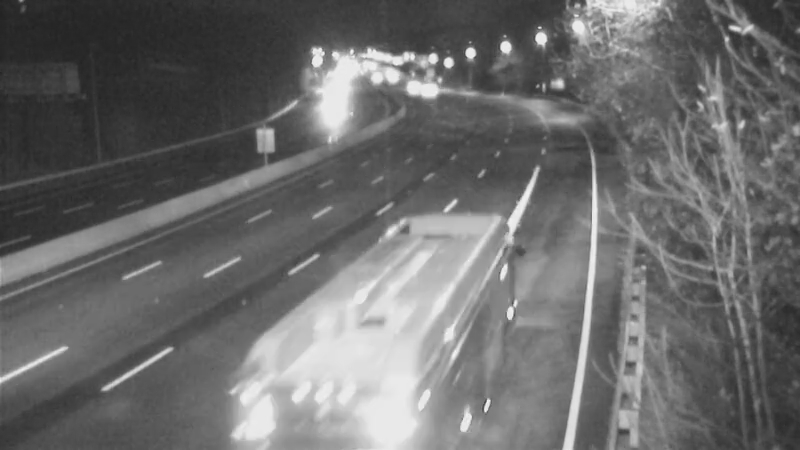vehicle: (388, 246, 498, 356), (364, 49, 414, 99), (351, 52, 401, 102), (388, 62, 438, 112), (404, 64, 454, 114), (299, 82, 349, 132)
